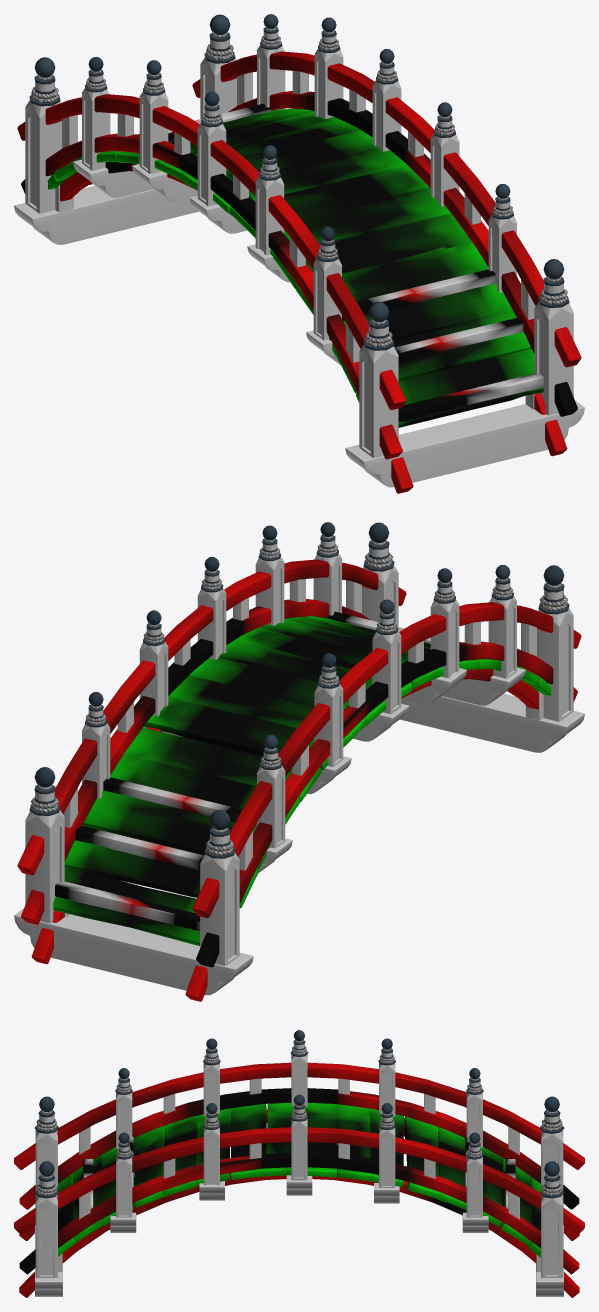
Rendered from SM_Short_bridge_merged.fbx.
The picture shows the model from 3 angles, top to bottom: view 1: azimuth 30°, elevation 25°; view 2: azimuth 150°, elevation 25°; view 3: azimuth 270°, elevation 25°; orthographic projection. The views are drawn at different scales.
Parts seen in each view (by area): view 1: SM_Short_bridge_merged_LOD0; view 2: SM_Short_bridge_merged_LOD0; view 3: SM_Short_bridge_merged_LOD0.
Boxes of the visible parts, <box> form: SM_Short_bridge_merged_LOD0: <box>14,14,584,493</box>; SM_Short_bridge_merged_LOD0: <box>14,522,584,1001</box>; SM_Short_bridge_merged_LOD0: <box>14,1030,584,1297</box>.
Bounding box in the file's own units: 481 × 1420 × 562.
